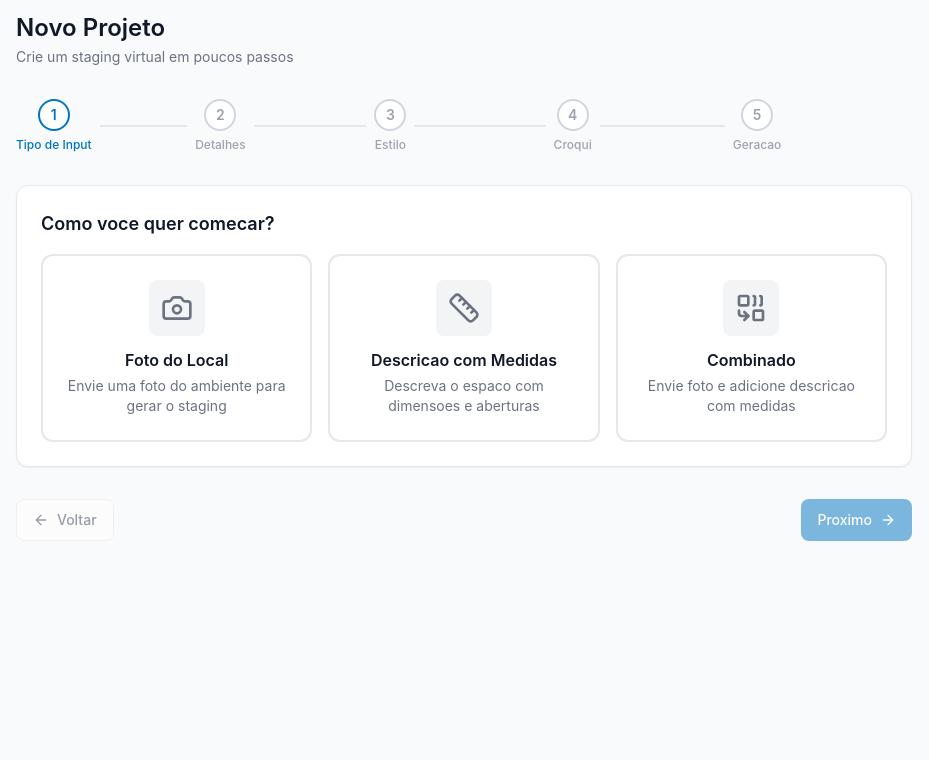
Scenario: NewProjectPage › navigates to Step 2 (text variant) after selecting text
Click the heading "Descricao com Medidas" at (464, 360), box [371, 350, 557, 370]
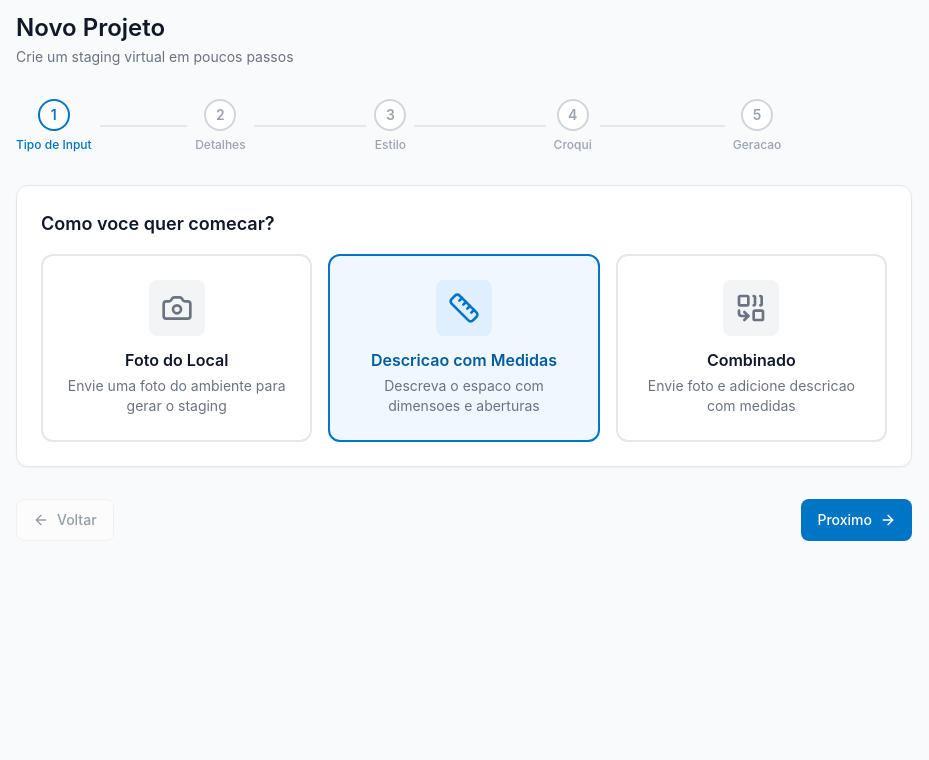
Click the button "Proximo" at (857, 520), box [802, 499, 912, 541]
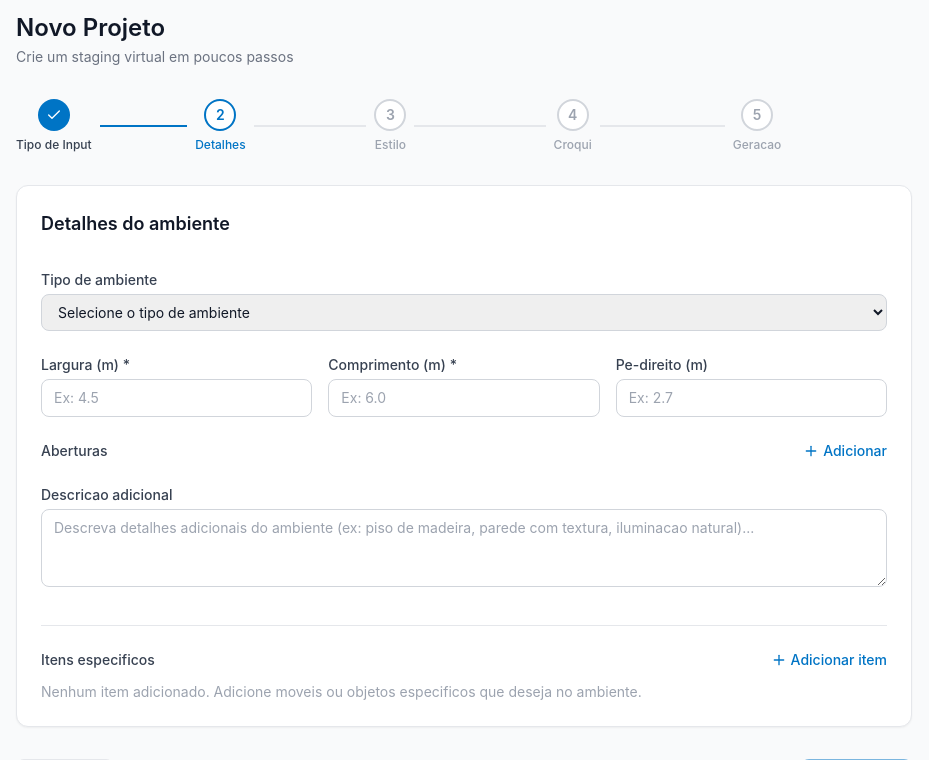
Result: the heading "Detalhes do ambiente" is shown at [41, 213, 230, 234]
Result: the number field labelled "Largura (m) *" is shown at [41, 379, 312, 417]
Result: the number field labelled "Comprimento (m) *" is shown at [328, 379, 600, 417]
